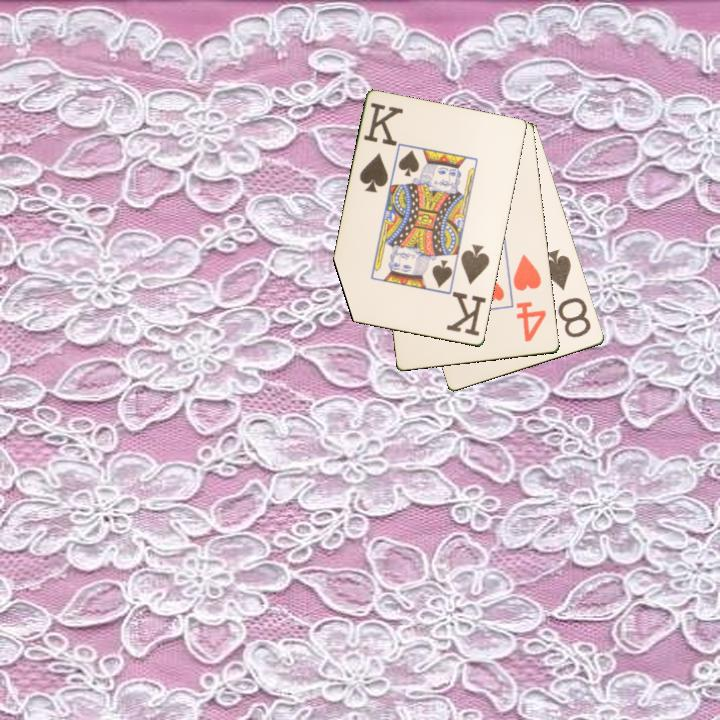4h: (510, 251, 549, 345)
8s: (539, 246, 594, 341)
Ks: (444, 241, 493, 340), (356, 99, 406, 196)
